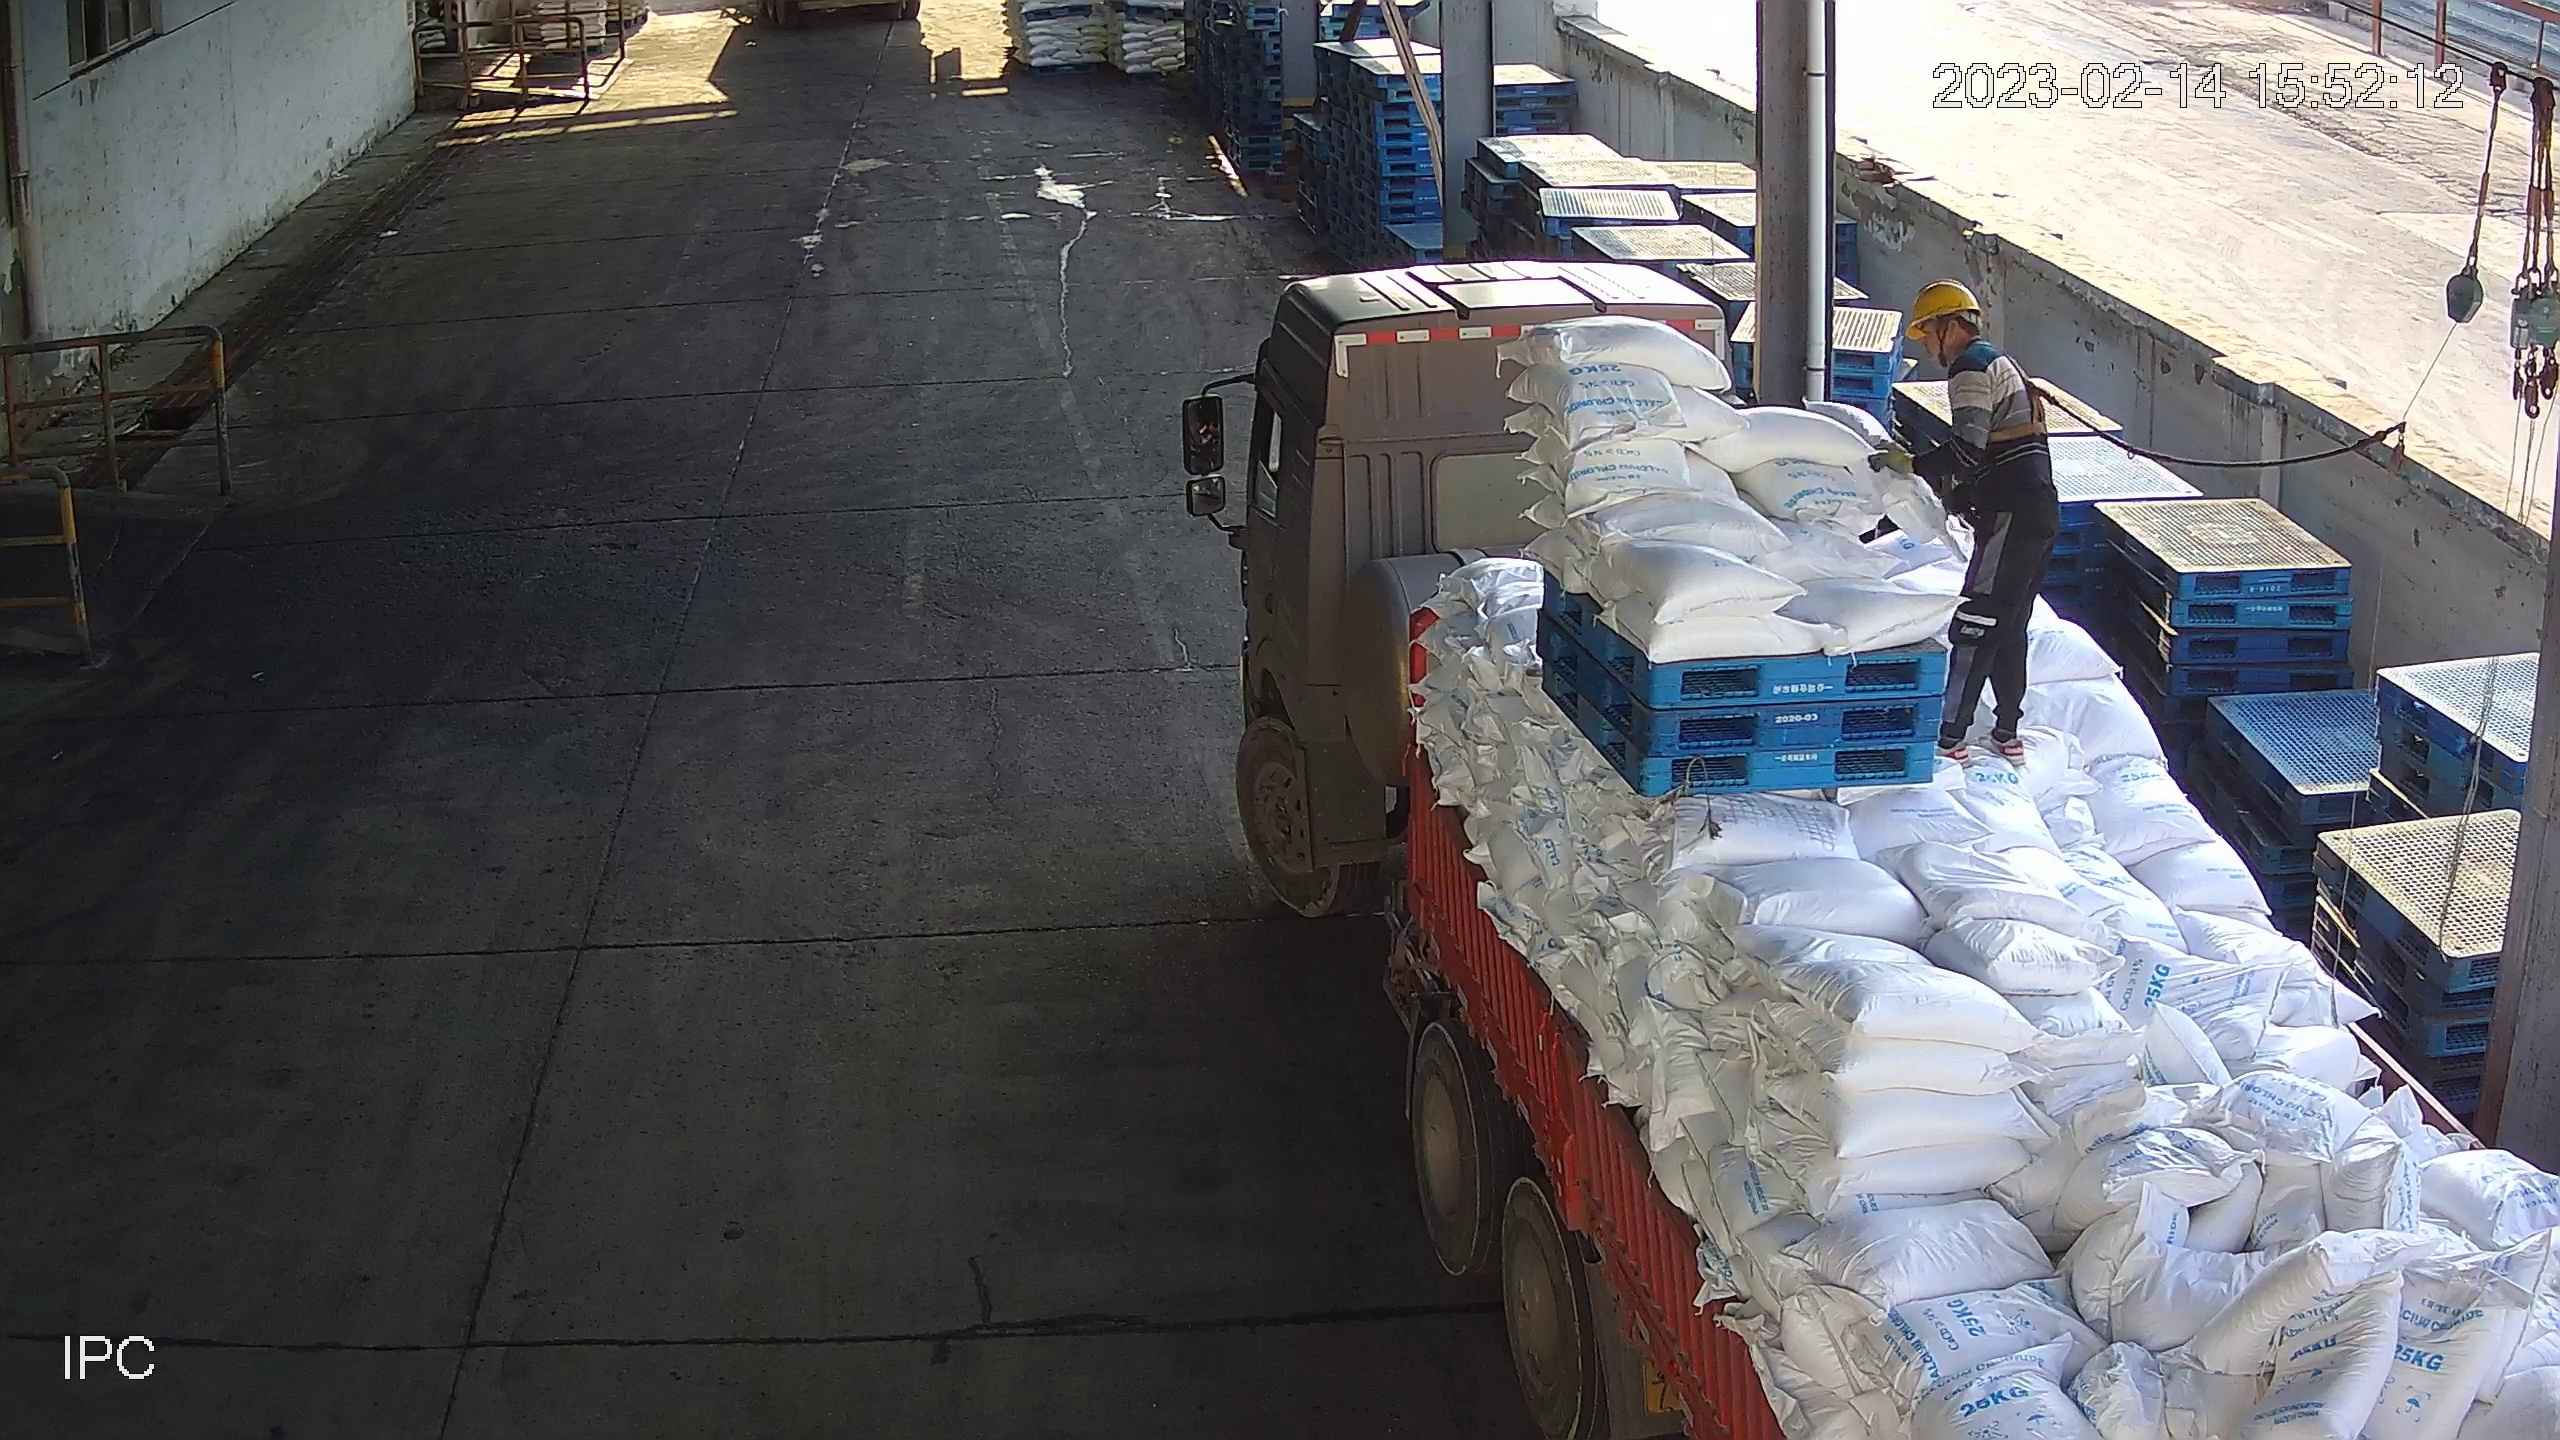belt: (1973, 347, 2062, 444)
head: (1900, 277, 2035, 396)
helmet: (1902, 277, 1984, 341)
people: (1870, 276, 2062, 771)
truck: (1226, 260, 2560, 1440)
